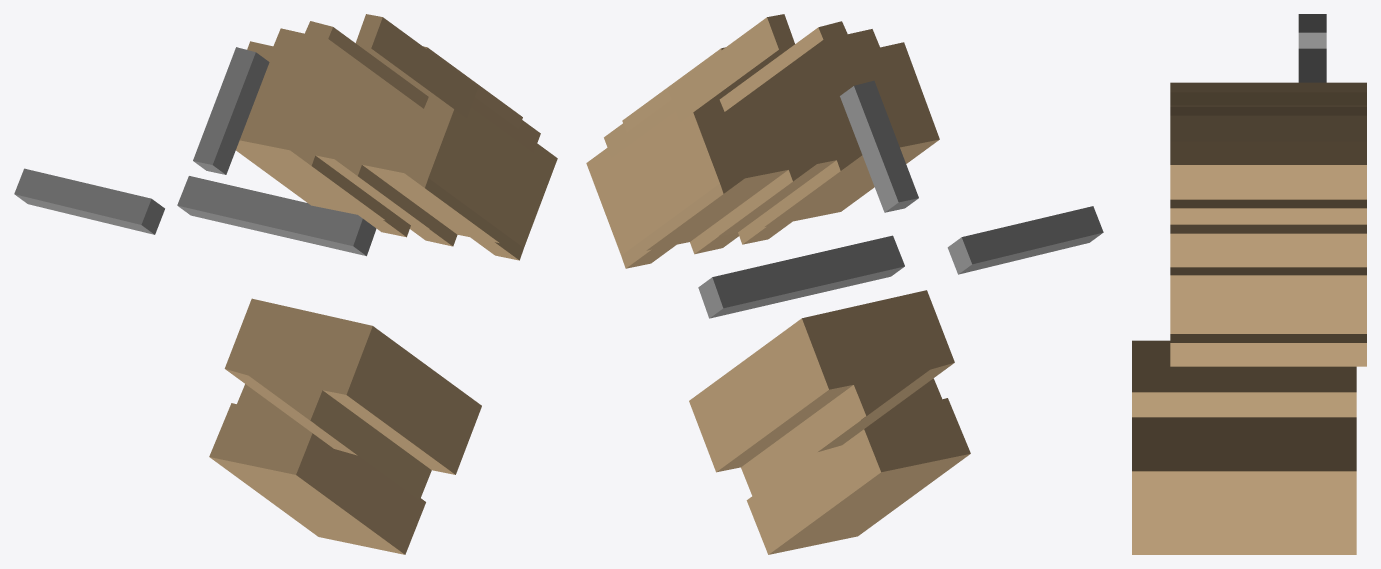
3 renders of one model, left to right at view 1: azimuth 30°, elevation 25°; view 2: azimuth 150°, elevation 25°; view 3: azimuth 270°, elevation 25°, orthographic. The views are drawn at different scales.
Visible parts, largest first — view 1: 0_3_1_3_3_3_3_0; view 2: 0_3_1_3_3_3_3_0; view 3: 0_3_1_3_3_3_3_0.
Part boxes in pixels (left/top/right/bottom): 0_3_1_3_3_3_3_0: left=14, top=14, right=557, bottom=554; 0_3_1_3_3_3_3_0: left=586, top=14, right=1103, bottom=554; 0_3_1_3_3_3_3_0: left=1132, top=14, right=1366, bottom=554.
Size of the model in its own units: 59.26 by 55.32 by 25.1.
